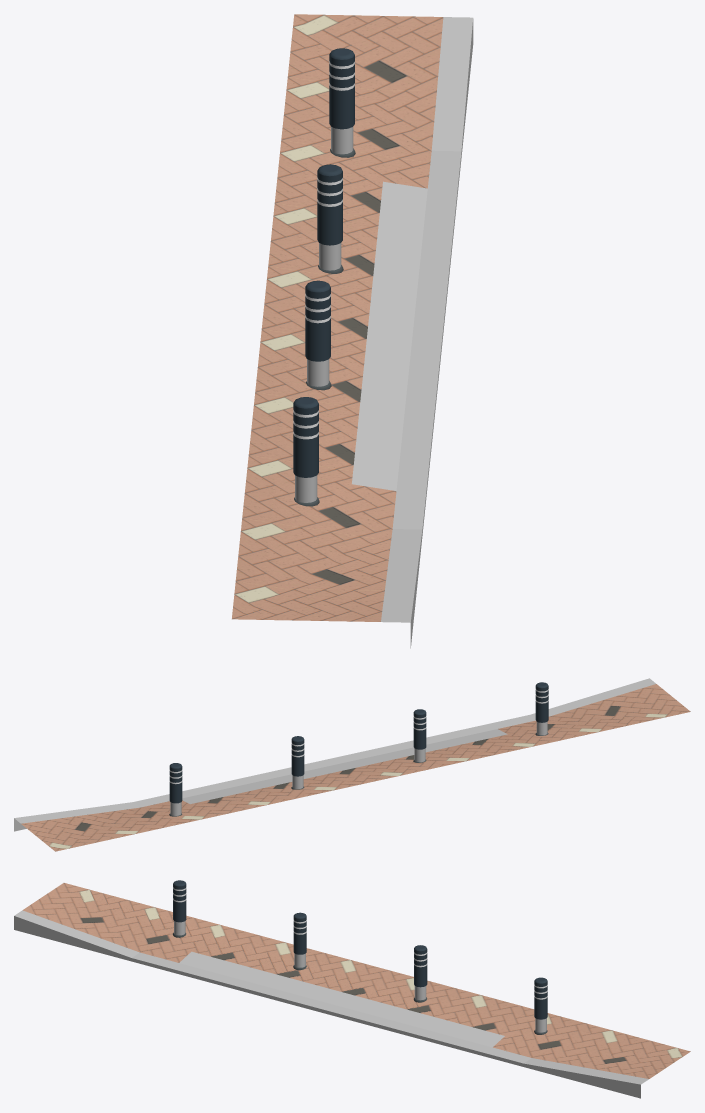
Rendered from 횡단보더앞.fbx.
3 views of the same model, one above another, from view 1: azimuth 30°, elevation 25°; view 2: azimuth 150°, elevation 25°; view 3: azimuth 270°, elevation 25° (orthographic). The views are drawn at different scales.
Visible parts, largest first — view 1: 횡단보더앞, 교통차단봉_2_1, 교통차단봉_2_2, 교통차단봉_2, 교통차단봉_2_3; view 2: 횡단보더앞, 교통차단봉_2_3, 교통차단봉_2_2, 교통차단봉_2, 교통차단봉_2_1; view 3: 횡단보더앞, 교통차단봉_2_1, 교통차단봉_2_3, 교통차단봉_2, 교통차단봉_2_2.
Boxes of the visible parts, bbox=[...] form: 횡단보더앞: bbox=[232, 14, 473, 648]; 교통차단봉_2_1: bbox=[317, 164, 342, 270]; 교통차단봉_2_2: bbox=[305, 280, 330, 386]; 교통차단봉_2: bbox=[329, 48, 354, 154]; 교통차단봉_2_3: bbox=[293, 397, 318, 502]; 횡단보더앞: bbox=[14, 678, 690, 851]; 교통차단봉_2_3: bbox=[535, 682, 548, 735]; 교통차단봉_2_2: bbox=[413, 709, 426, 762]; 교통차단봉_2: bbox=[169, 763, 182, 815]; 교통차단봉_2_1: bbox=[291, 736, 304, 788]; 횡단보더앞: bbox=[14, 883, 690, 1098]; 교통차단봉_2_1: bbox=[414, 945, 427, 1000]; 교통차단봉_2_3: bbox=[173, 880, 186, 935]; 교통차단봉_2: bbox=[534, 977, 547, 1032]; 교통차단봉_2_2: bbox=[293, 912, 306, 967].
Bounding box in the file's own units: 617 × 87.5 × 874.
